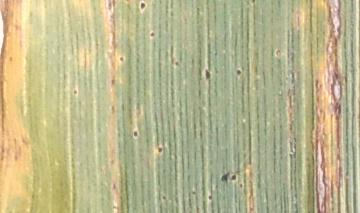tarspot: (204, 69, 212, 80), (221, 173, 230, 182), (139, 1, 147, 10), (231, 173, 237, 180), (150, 31, 155, 37), (157, 147, 163, 152), (236, 69, 241, 75), (73, 89, 78, 94), (119, 56, 124, 61), (133, 131, 138, 136), (192, 190, 196, 195), (162, 196, 166, 200), (175, 62, 179, 65), (208, 195, 211, 199), (251, 1, 256, 3)
